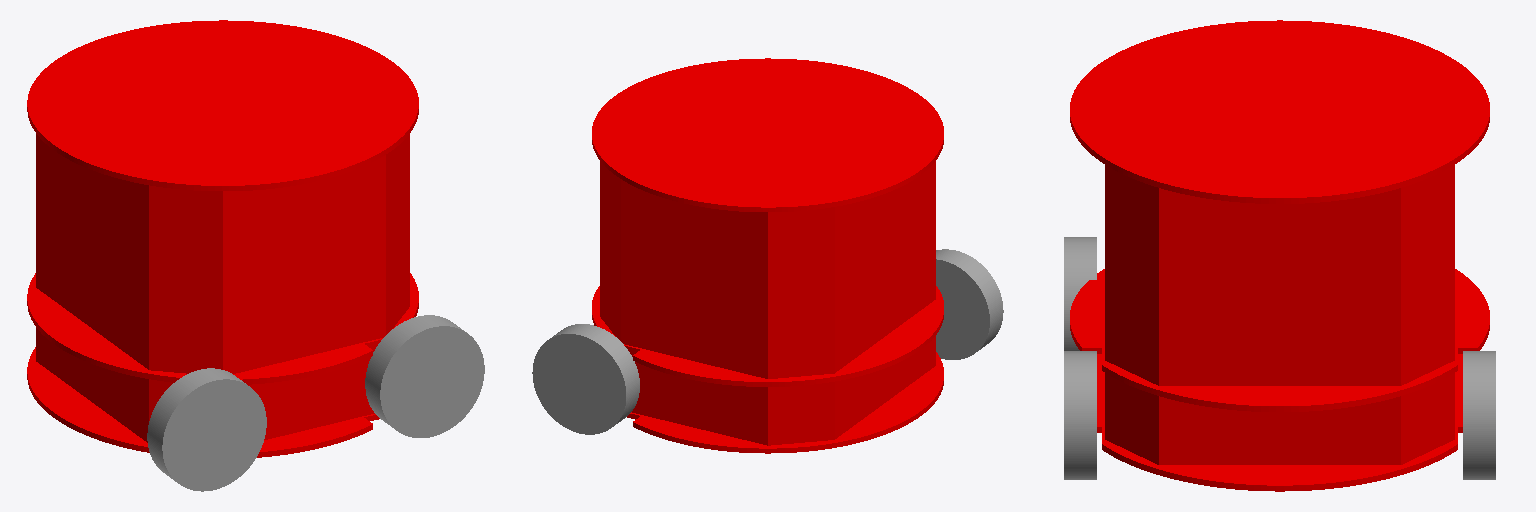
The robot description file, URDF, robot "firebird_vi":
<robot name="firebird_vi">

    <material name="grey">
        <color rgba='0.66274509803 0.66274509803 0.66274509803 1' />
    </material>

    <material name="red">
        <color rgba='1 0 0 1' />
    </material>

    <link name="base_link">
    <origin xyz="0.0 0.0 0.016" rpy="0.0 0.0 0.0"/>
         <visual>
            <geometry>
                <mesh filename="package://robot_description/meshes/firebird_vi.obj"/>
            </geometry>
            <material name='red'/>
        </visual>
        <collision>
            <geometry>
                <cylinder radius="0.1250" length="0.2"/>
            </geometry>
        </collision>
        <inertial>
            <mass value="2"/>
            <inertia ixx="1" ixy="0.0" ixz="0.0" iyy="1" iyz="0.0" izz="1"/>
        </inertial>
    </link>

    <link name="front_right_wheel">
        <visual>
            <origin xyz="0.0835 -0.37975 0.03" rpy="0.0 0.0 0.0"/>
            <geometry>
                <mesh filename="package://robot_description/meshes/firebird_wheel.obj"/>
            </geometry>
            <material name="grey"/>
        </visual>
        <inertial>
            <mass value="0.1"/>
            <inertia ixx="1" ixy="0.0" ixz="0.0" iyy="1" iyz="0.0" izz="1"/>
        </inertial>
    </link>

    <link name="front_left_wheel">
        <visual>
            <origin xyz="0.0835 -0.13325 0.03" rpy="0.0 0.0 0.0"/>
            <geometry>
                <mesh filename="package://robot_description/meshes/firebird_wheel.obj"/>
            </geometry>
            <material name="grey"/>
        </visual>
        <inertial>
            <mass value="0.1"/>
            <inertia ixx="1" ixy="0.0" ixz="0.0" iyy="1" iyz="0.0" izz="1"/>
        </inertial>
    </link>

    <link name="back_right_wheel">
        <visual>
            <origin xyz="-0.0835 -0.37975 0.03" rpy="0.0 0.0 0.0"/>
            <geometry>
                <mesh filename="package://robot_description/meshes/firebird_wheel.obj"/>
            </geometry>
            <material name="grey"/>
        </visual>
        <inertial>
            <mass value="0.1"/>
            <inertia ixx="1" ixy="0.0" ixz="0.0" iyy="1" iyz="0.0" izz="1"/>
        </inertial>
    </link>

    <link name="back_left_wheel">
        <visual>
        <origin xyz="0.0835 -0.13325 0.03" rpy="0.0 0.0 0.0"/>
            <geometry>
                <mesh filename="package://robot_description/meshes/firebird_wheel.obj"/>
            </geometry>
            <material name="grey"/>
        </visual>
        <inertial>
            <mass value="0.1"/>
            <inertia ixx="1" ixy="0.0" ixz="0.0" iyy="1" iyz="0.0" izz="1"/>
        </inertial>
    </link>

    <joint name="front_right_wheel_base_link" type="continuous">
        <parent link="base_link"/>
        <child link="front_right_wheel"/>
        <axis xyz="0.0 1.0 0.0"/>
    </joint>

    <joint name="front_left_wheel_base_link" type="continuous">
        <parent link="base_link"/>
        <child link="front_left_wheel"/>
        <axis xyz="0.0 1.0 0.0"/>
    </joint>

    <joint name="back_right_wheel_base_link" type="continuous">
        <parent link="base_link"/>
        <child link="back_right_wheel"/>
        <axis xyz="0.0 1.0 0.0"/>
    </joint>

    <joint name="back_left_wheel_base_link" type="continuous">
        <parent link="base_link"/>
        <child link="back_left_wheel"/>
        <axis xyz="0.0 1.0 0.0"/>
    </joint>

</robot>

--- What the picture shows (computed from the rendered views, not written in the file) ---
The picture shows the robot from 3 angles, left to right: view 1: azimuth 30°, elevation 25°; view 2: azimuth 150°, elevation 25°; view 3: azimuth 270°, elevation 25°; orthographic projection.
Model firebird_vi with 5 links and 4 joints (4 continuous), rooted at base_link, posed every joint at zero.
Visible links, largest first — view 1: base_link, front_right_wheel, back_right_wheel; view 2: base_link, front_left_wheel, back_right_wheel; view 3: base_link, front_right_wheel, front_left_wheel, back_right_wheel.
Link boxes in pixels (left/top/right/bottom): base_link: left=27, top=20, right=418, bottom=457; front_right_wheel: left=365, top=315, right=484, bottom=437; back_right_wheel: left=147, top=368, right=266, bottom=491; base_link: left=592, top=58, right=943, bottom=453; front_left_wheel: left=532, top=324, right=639, bottom=434; back_right_wheel: left=936, top=249, right=1003, bottom=359; base_link: left=1070, top=20, right=1489, bottom=491; front_right_wheel: left=1064, top=351, right=1096, bottom=479; front_left_wheel: left=1463, top=351, right=1495, bottom=479; back_right_wheel: left=1064, top=237, right=1096, bottom=350.
Size in the robot's own frame: 0.26 by 0.2665 by 0.21 metres.
5 mesh visuals loaded from 2 distinct referenced files (2 OBJ).